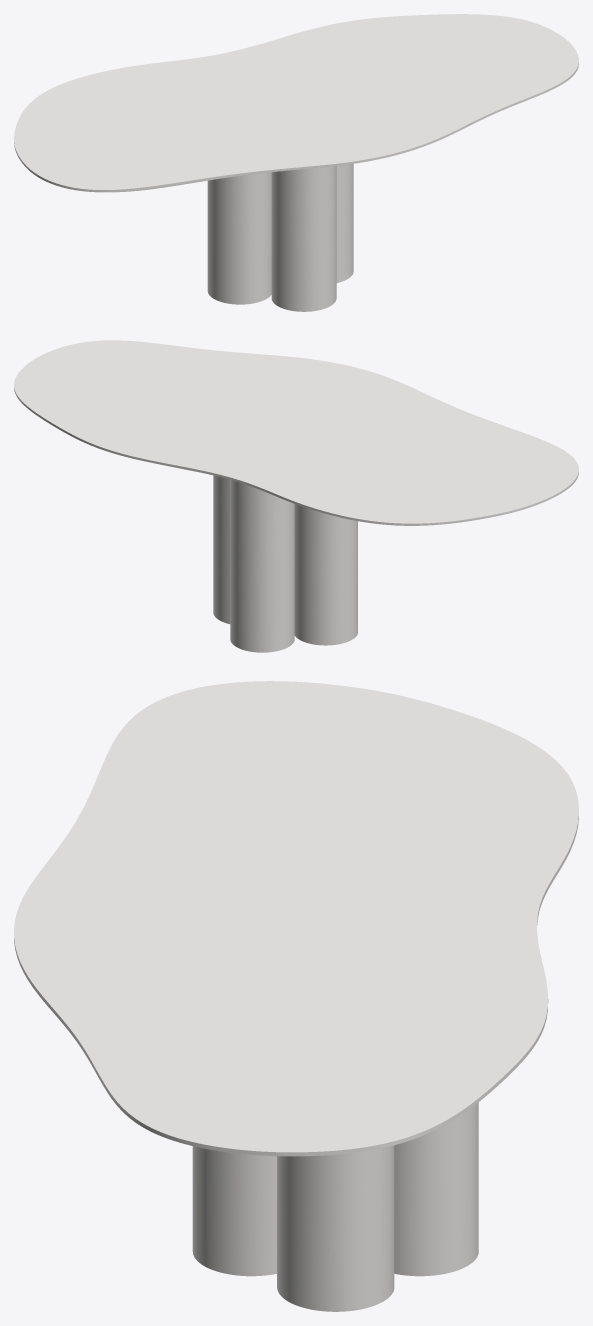
File: purewhite_toplast_facet_secondtable.glb
3 views of the same model, one above another, from view 1: azimuth 30°, elevation 25°; view 2: azimuth 150°, elevation 25°; view 3: azimuth 270°, elevation 25° (orthographic). The views are drawn at different scales.
Visible parts, largest first — view 1: facet_toplast, secondtable; view 2: facet_toplast, secondtable; view 3: facet_toplast, secondtable.
Part boxes in pixels (box(x1,y1,x2,y2)): facet_toplast: box(14, 14, 578, 192); secondtable: box(207, 164, 353, 311); facet_toplast: box(14, 340, 578, 525); secondtable: box(213, 475, 357, 652); facet_toplast: box(14, 681, 578, 1156); secondtable: box(192, 1102, 478, 1311).
Bounding box in the file's own units: 7.5 × 2.5 × 3.8.
Materials: 1 (1 with a texture image).
